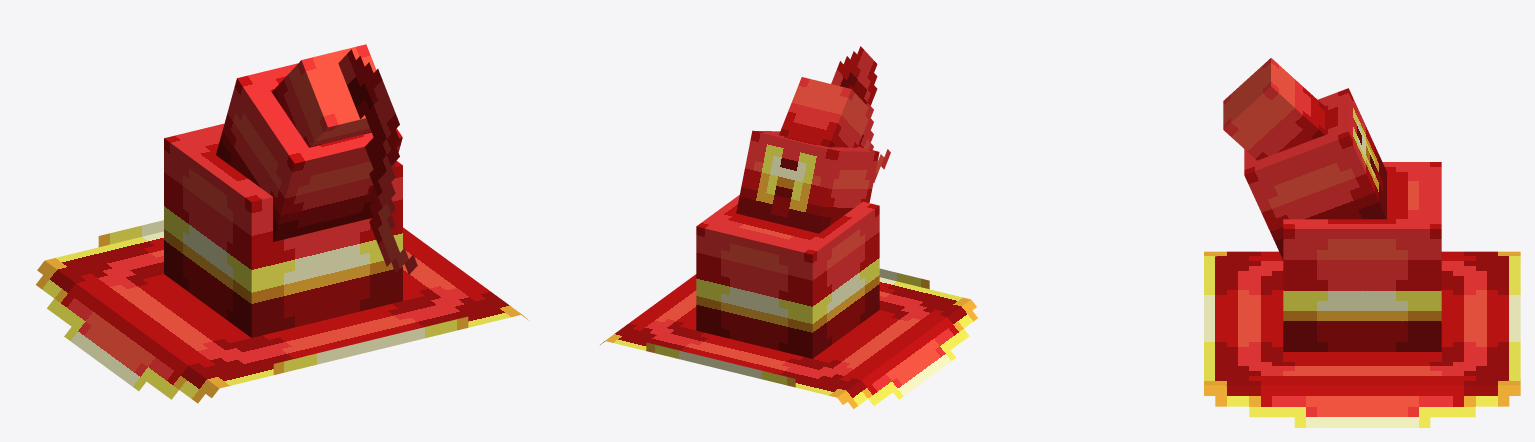
Rendered from redrobe-head.gltf.
The picture shows the model from 3 angles, left to right: view 1: azimuth 30°, elevation 25°; view 2: azimuth 150°, elevation 25°; view 3: azimuth 270°, elevation 25°; orthographic projection. The views are drawn at different scales.
Visible parts, largest first — view 1: mage; view 2: mage; view 3: mage.
Part boxes in pixels (<box>): mage: <box>36,44,529,403</box>; mage: <box>600,46,977,409</box>; mage: <box>1204,58,1520,427</box>.
Bounding box in the file's own units: 1.05 × 1.02 × 1.37.
Materials: 2 (2 with a texture image).
